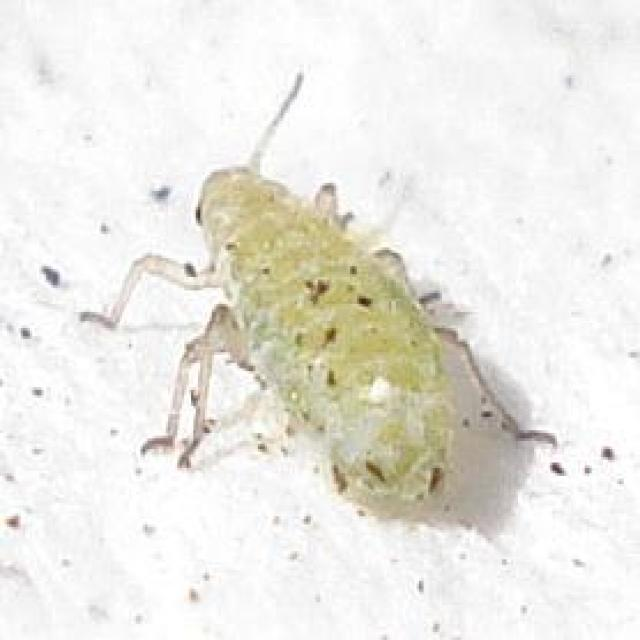Aphids: (62, 100, 585, 564)
